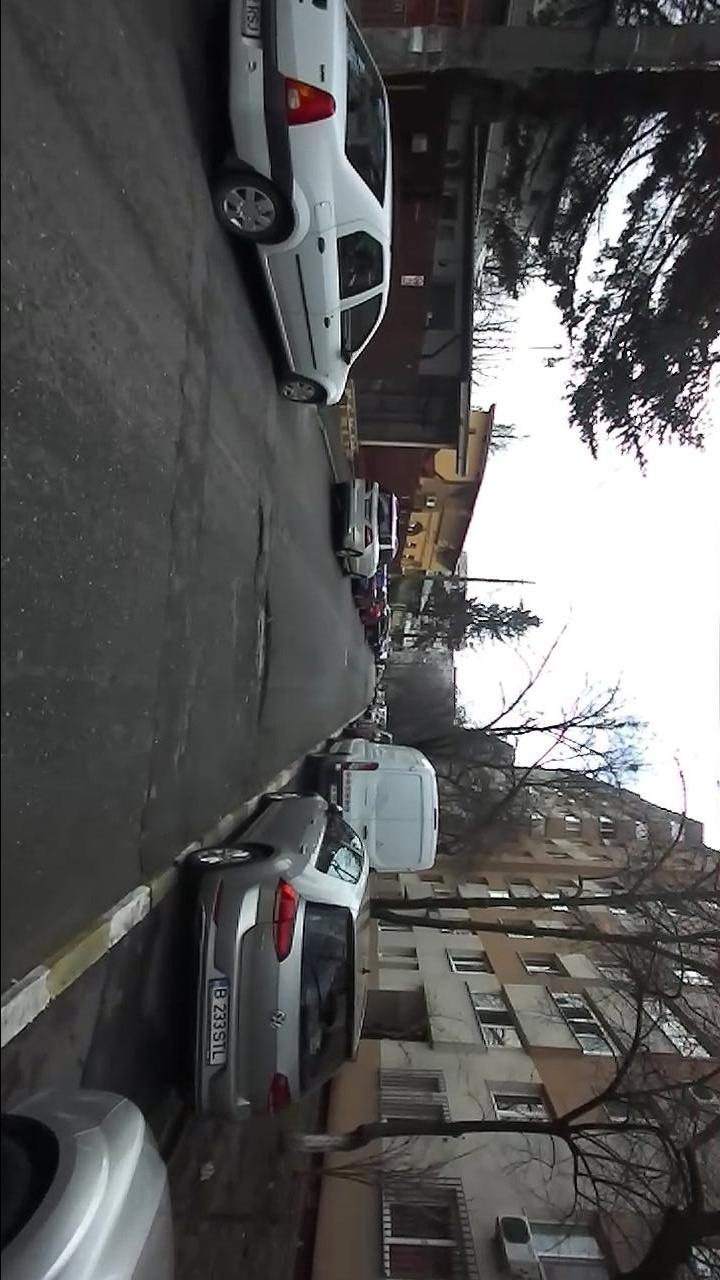pothole: (249, 584, 274, 729), (127, 775, 159, 872), (253, 494, 268, 569)
